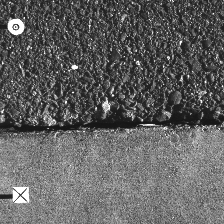circle: (7, 18, 24, 34)
crack: (1, 114, 223, 133)
square: (12, 187, 29, 203)
